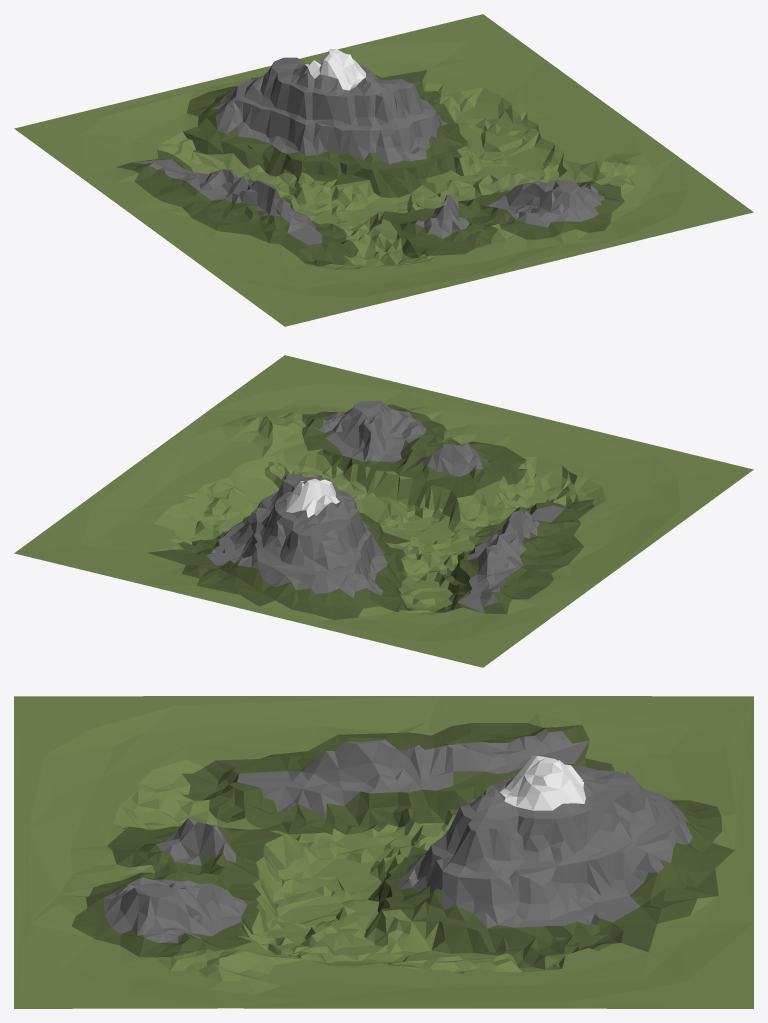
The model's file is Terrain_01.fbx.
3 views of the same model, one above another, from view 1: azimuth 30°, elevation 25°; view 2: azimuth 150°, elevation 25°; view 3: azimuth 270°, elevation 25° (orthographic). The views are drawn at different scales.
Visible parts, largest first — view 1: Terrain_01; view 2: Terrain_01; view 3: Terrain_01.
Boxes of the visible parts, box(x1,y1,x2,y2) form: Terrain_01: box(14, 14, 753, 326); Terrain_01: box(14, 355, 753, 667); Terrain_01: box(14, 696, 753, 1008).
Size of the model in its own units: 20000 by 4149 by 20000.
